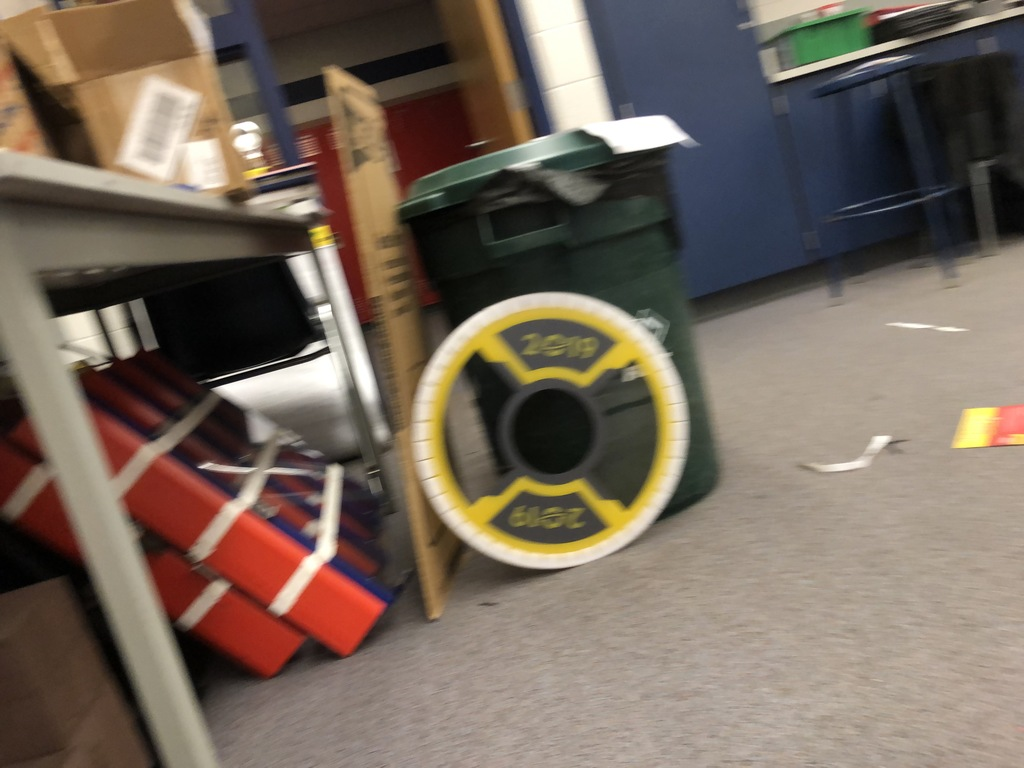hatch_panel: (403, 285, 689, 583)
